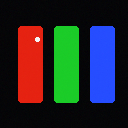0 point: (35, 37, 39, 41)
